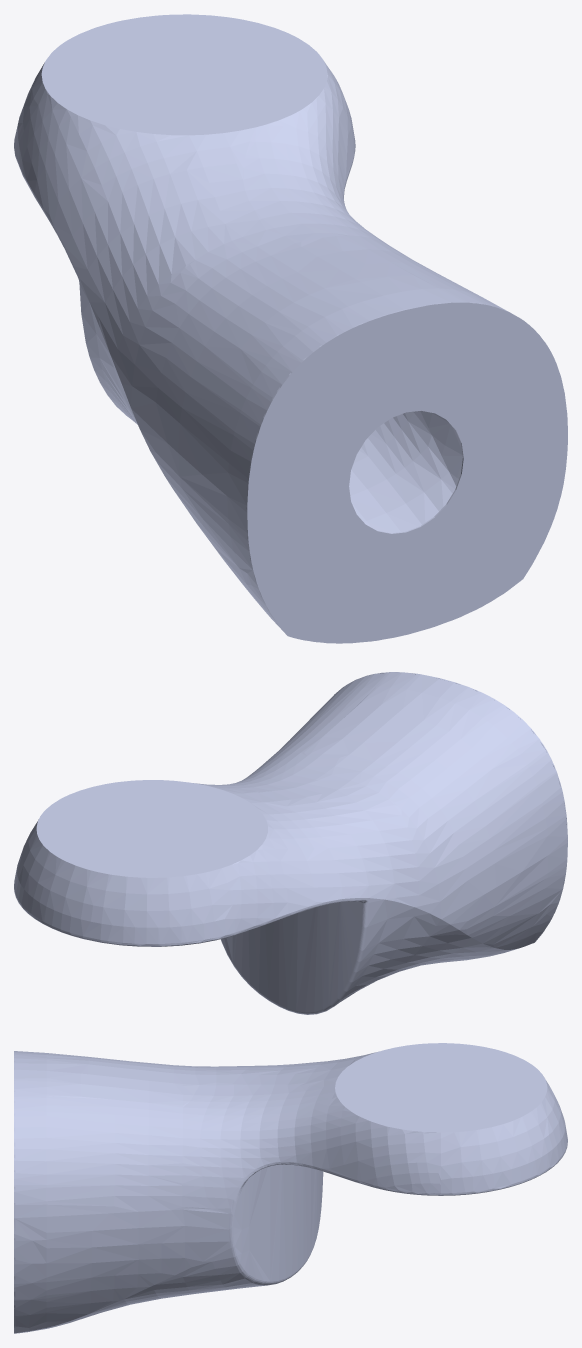
File: left_shoulder_yaw_link.dae
The picture shows the model from 3 angles, top to bottom: view 1: azimuth 30°, elevation 25°; view 2: azimuth 150°, elevation 25°; view 3: azimuth 270°, elevation 25°; orthographic projection. The views are drawn at different scales.
Parts seen in each view (by area): view 1: left_shoulder_yaw_link; view 2: left_shoulder_yaw_link; view 3: left_shoulder_yaw_link.
Boxes of the visible parts, <box> form: left_shoulder_yaw_link: <box>14,14,567,643</box>; left_shoulder_yaw_link: <box>14,672,567,1014</box>; left_shoulder_yaw_link: <box>14,1043,567,1333</box>.
Bounding box in the file's own units: 0.0942 × 0.0805 × 0.1631.
